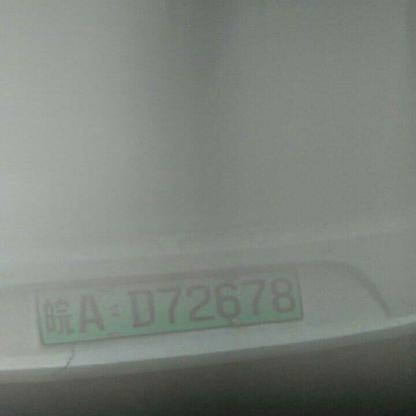lp: (45, 267, 297, 343)
